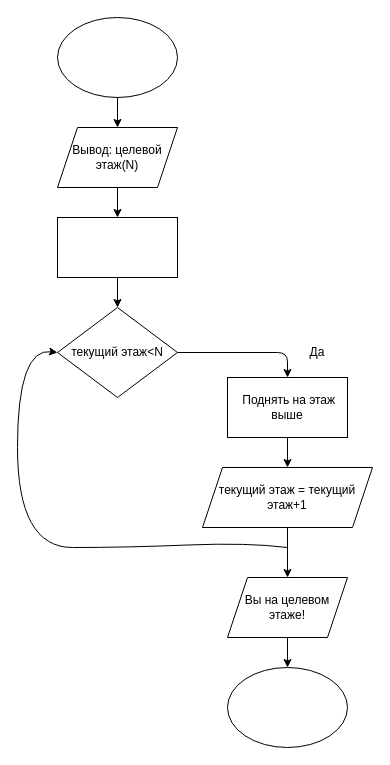
The diagram is 390 pixels wide and 765 high, and some of its shapes have lost their labels. The shapes that lost their labels are listed below. From the top down, each one's centre as x and y in pixels, then its label:
At point (117, 57): "Начало".
At point (117, 247): "Тукущий этаж=1".
At point (287, 707): "Конец".
